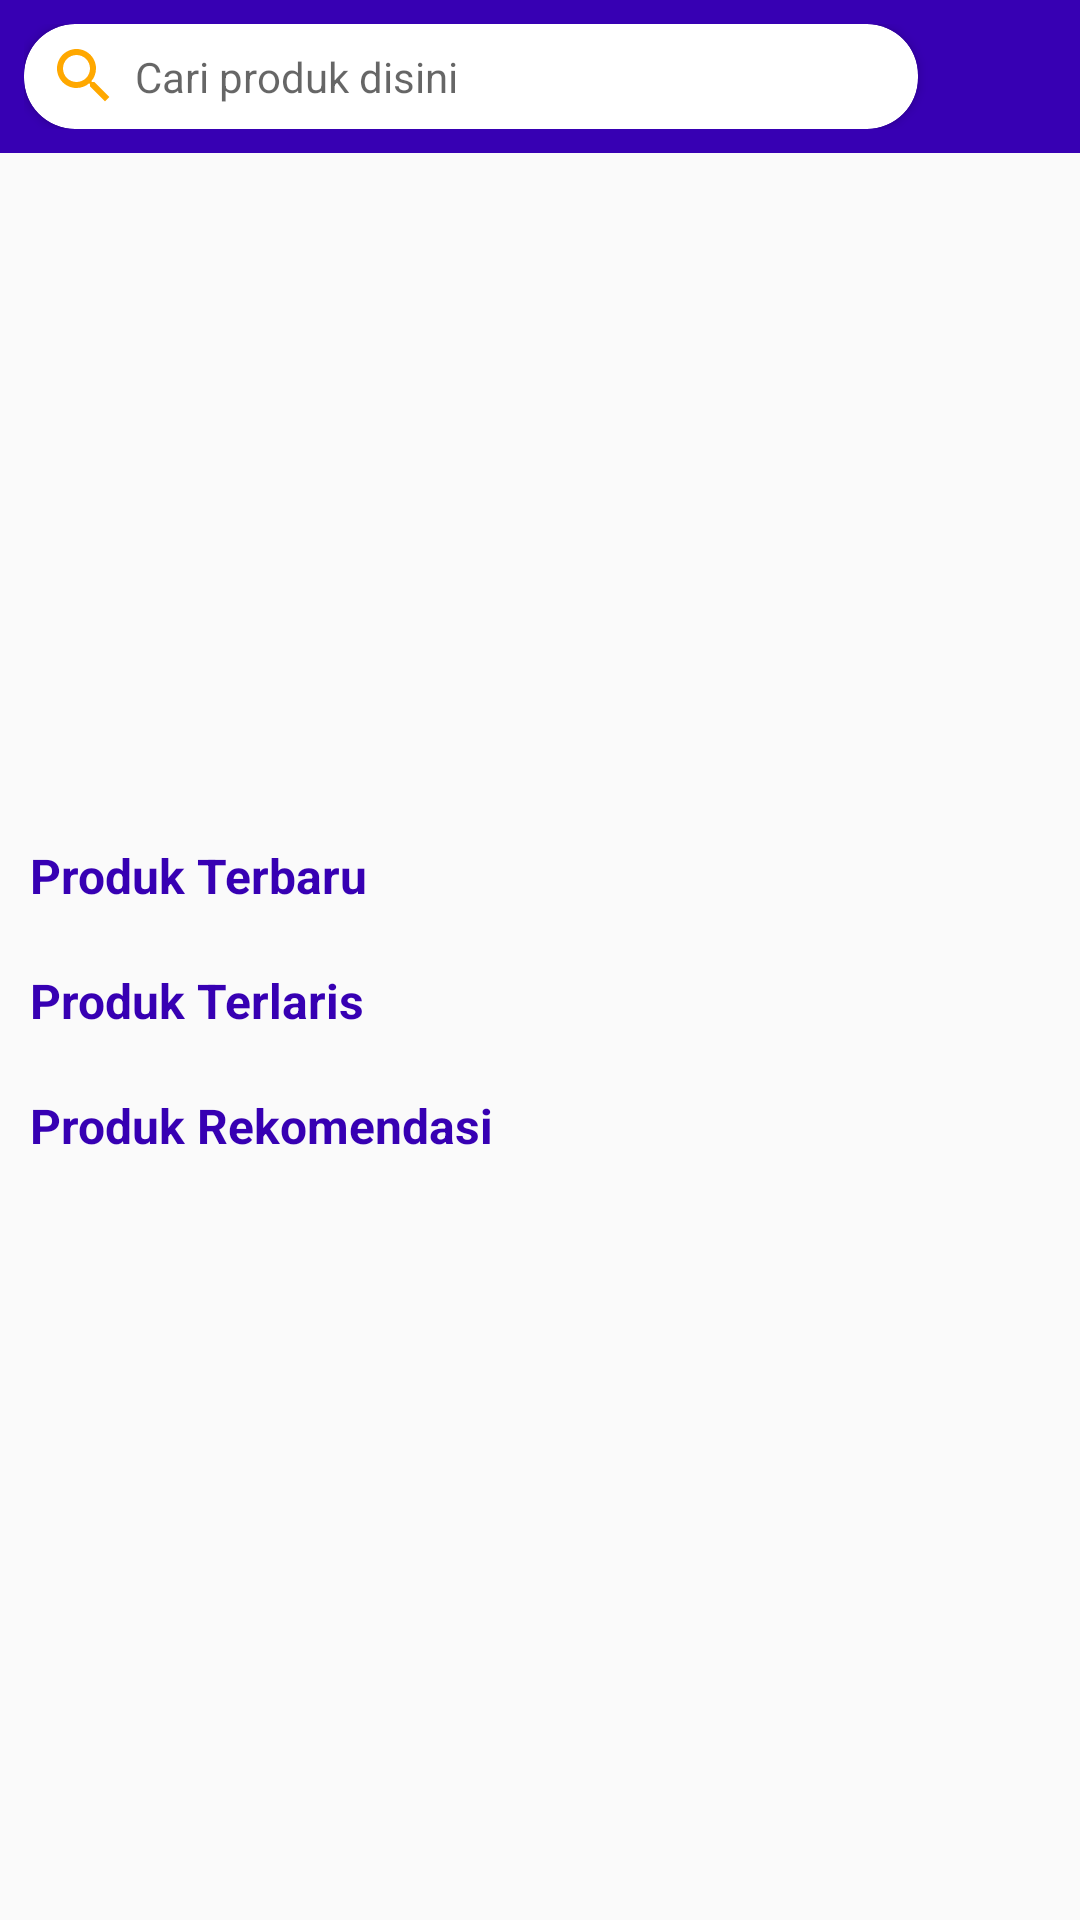

Where icons sit on this 1080 × 1920 app screen, as (x1, y1, x2, y2):
search: (57, 49, 109, 101)
